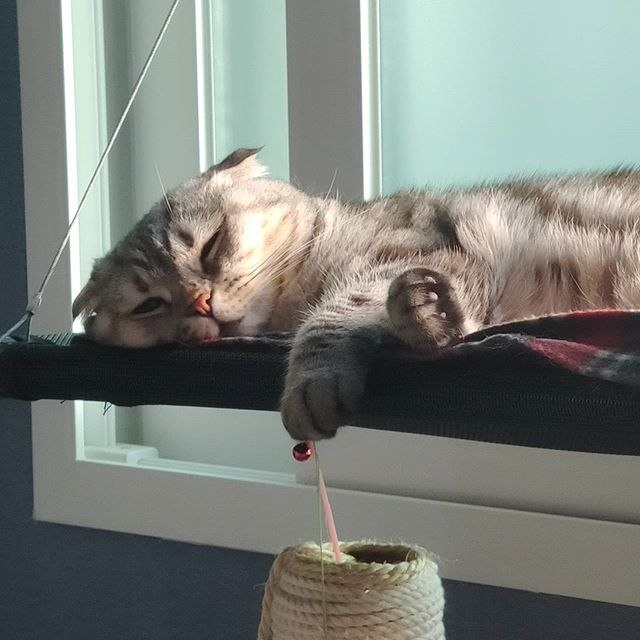cat: (69, 146, 283, 360)
